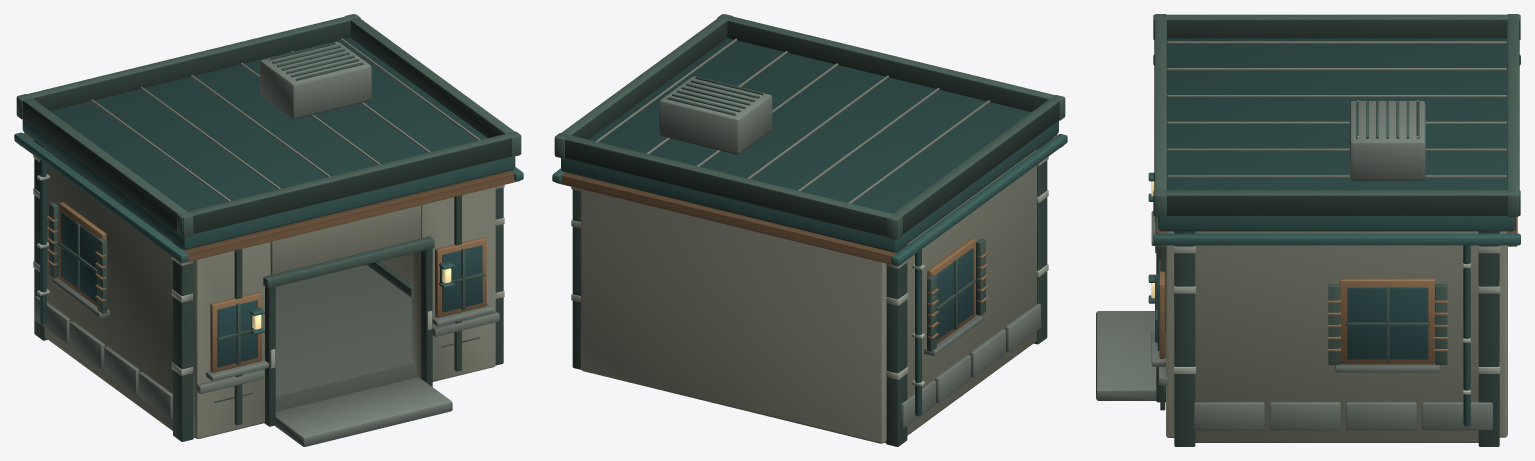
Rendered from kf-security.glb.
3 views of the same model, side by side, from view 1: azimuth 30°, elevation 25°; view 2: azimuth 150°, elevation 25°; view 3: azimuth 270°, elevation 25° (orthographic). The views are drawn at different scales.
Parts seen in each view (by area): view 1: Roof Roof metal, Shell Painted plaster, Shell Foundation, RoofDetail Timber trim, Shell Timber trim, Shell Warm wood, Shell Window glass, RoofDetail Foundation, Shell Roof metal, RoofDetail Brushed hardware, Shell Brushed hardware; view 2: Shell Painted plaster, Roof Roof metal, RoofDetail Timber trim, Shell Timber trim, Shell Warm wood, RoofDetail Foundation, Shell Foundation, Shell Roof metal, RoofDetail Brushed hardware, Shell Window glass, Shell Brushed hardware; view 3: Roof Roof metal, Shell Painted plaster, RoofDetail Timber trim, Shell Foundation, Shell Timber trim, Shell Roof metal, Shell Window glass, RoofDetail Foundation, RoofDetail Brushed hardware, Shell Warm wood, Shell Brushed hardware.
Boxes of the visible parts, box(x1,y1,x2,y2) form: Roof Roof metal: box(22, 38, 515, 249); Shell Painted plaster: box(44, 148, 495, 438); Shell Foundation: box(35, 264, 499, 446); RoofDetail Timber trim: box(16, 14, 521, 236); Shell Timber trim: box(34, 140, 503, 441); Shell Warm wood: box(18, 133, 520, 372); Shell Window glass: box(61, 211, 482, 367); RoofDetail Foundation: box(260, 42, 371, 118); Shell Roof metal: box(14, 132, 523, 334); RoofDetail Brushed hardware: box(91, 38, 480, 201); Shell Brushed hardware: box(33, 155, 504, 375); Shell Painted plaster: box(581, 149, 1036, 443); Roof Roof metal: box(561, 38, 1058, 252); RoofDetail Timber trim: box(554, 14, 1065, 239); Shell Timber trim: box(572, 142, 1047, 446); Shell Warm wood: box(555, 134, 1063, 344); RoofDetail Foundation: box(659, 76, 772, 154); Shell Foundation: box(885, 303, 1040, 442); Shell Roof metal: box(552, 134, 1067, 415); RoofDetail Brushed hardware: box(596, 38, 990, 203); Shell Window glass: box(936, 248, 973, 340); Shell Brushed hardware: box(571, 156, 1048, 386); Roof Roof metal: box(1158, 38, 1515, 231); Shell Painted plaster: box(1166, 231, 1507, 442); RoofDetail Timber trim: box(1153, 14, 1520, 216); Shell Foundation: box(1096, 211, 1492, 430); Shell Timber trim: box(1155, 216, 1499, 446); Shell Roof metal: box(1148, 55, 1520, 426); Shell Window glass: box(1157, 266, 1428, 359); RoofDetail Foundation: box(1349, 101, 1425, 180); RoofDetail Brushed hardware: box(1167, 41, 1506, 177); Shell Warm wood: box(1156, 216, 1517, 364); Shell Brushed hardware: box(1155, 231, 1500, 394).
Size of the model in its own units: 6.88 by 4.91 by 6.7.
